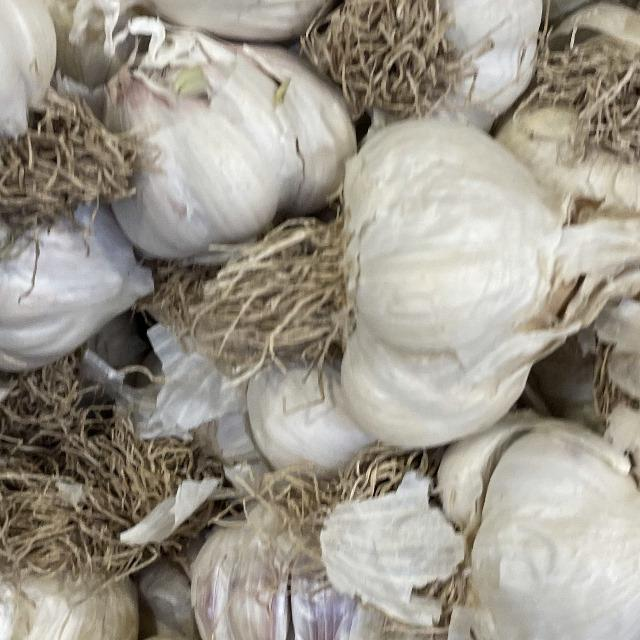garlic: (245, 85, 640, 370), (440, 392, 640, 640), (0, 0, 120, 232)
